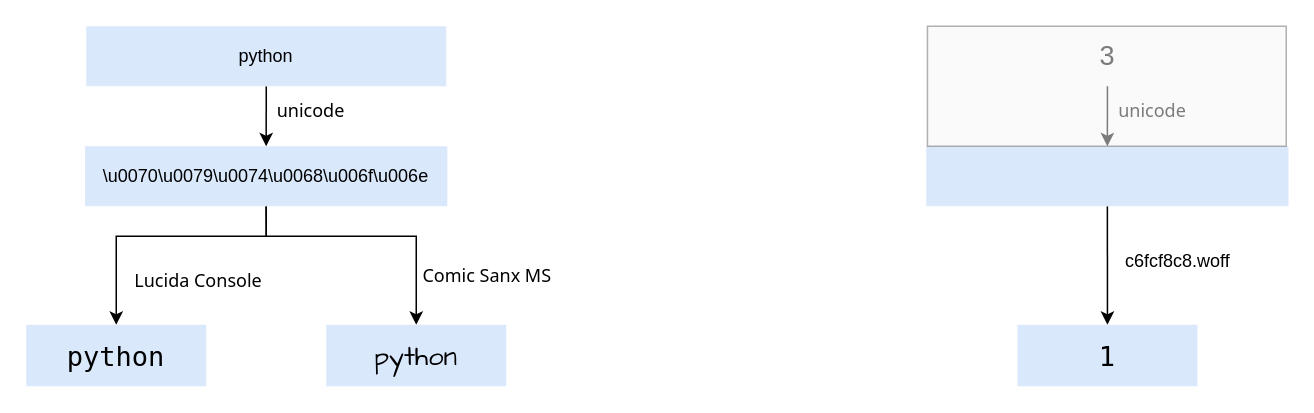
The diagram is 1314 pixels wide and 413 high, and some of its shapes have lost their labels. The shapes that lost their labels are listed below. From the top down, each one's centre as x and y in pixels, then its label:
(x=1106, y=85): 特殊字体不输入
(x=1107, y=176): \\uf177
